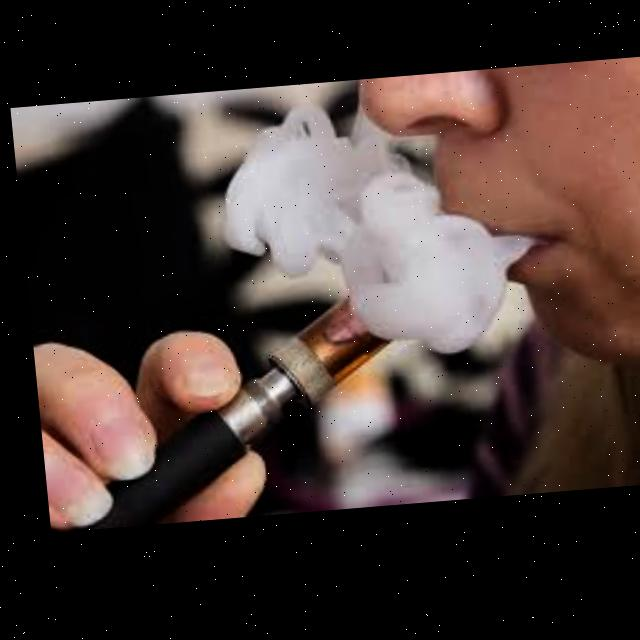vape: (33, 296, 395, 532)
